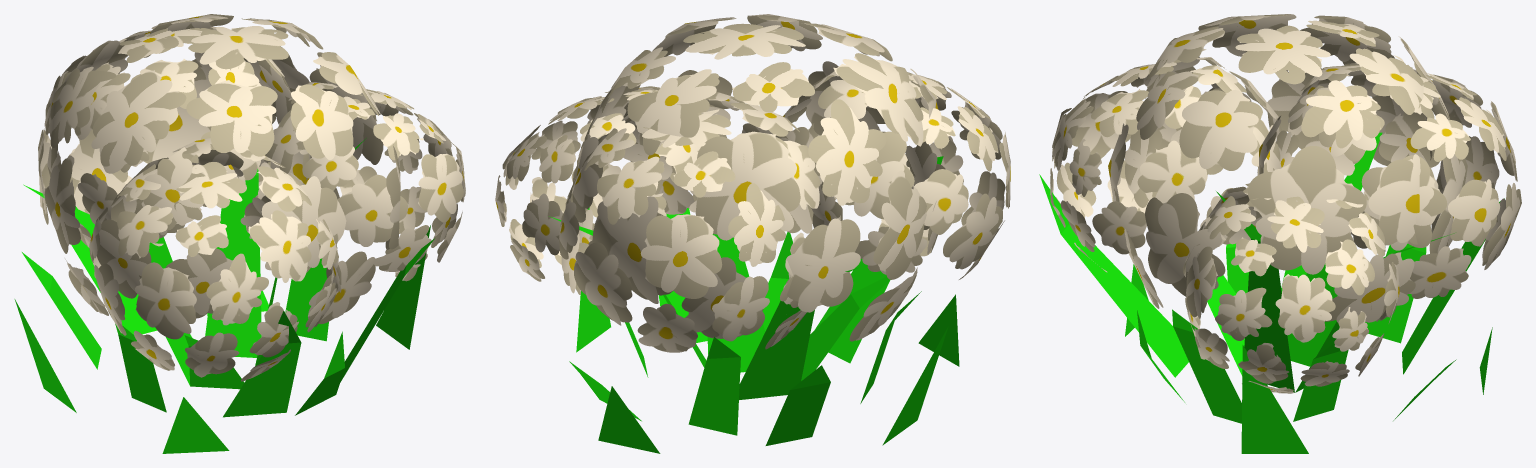
Rendered from flores.fbx.
The picture shows the model from 3 angles, left to right: view 1: azimuth 30°, elevation 25°; view 2: azimuth 150°, elevation 25°; view 3: azimuth 270°, elevation 25°; orthographic projection. The views are drawn at different scales.
Visible parts, largest first — view 1: Cube.007, Cube.006, Plane.001, Cube.008, Cube.009; view 2: Cube.007, Cube.009, Plane.001, Cube.006, Cube.008; view 3: Cube.007, Plane.001, Cube.009, Cube.008, Cube.006.
Boxes of the visible parts, box(x1,y1,x2,y2) form: Cube.007: box(38, 14, 400, 323); Cube.006: box(89, 138, 341, 381); Plane.001: box(14, 138, 434, 453); Cube.008: box(258, 82, 465, 281); Cube.009: box(43, 27, 309, 247); Cube.007: box(572, 14, 945, 341); Cube.009: box(559, 91, 842, 352); Plane.001: box(549, 156, 959, 453); Cube.006: box(783, 71, 1010, 279); Cube.008: box(495, 86, 701, 281); Cube.007: box(1108, 14, 1467, 322); Plane.001: box(1039, 132, 1504, 453); Cube.009: box(1257, 63, 1521, 298); Cube.008: box(1183, 183, 1399, 393); Cube.006: box(1050, 57, 1281, 272).
Size of the model in its own units: 127 by 96.69 by 125.
5 materials, 4 textured.
